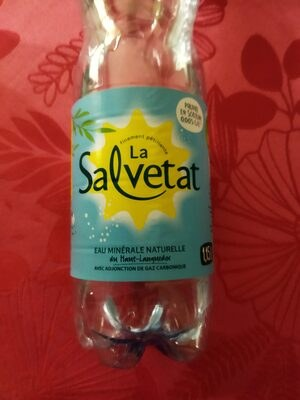LBEN CARTON PASTEURISER: (15, 20, 285, 380)
